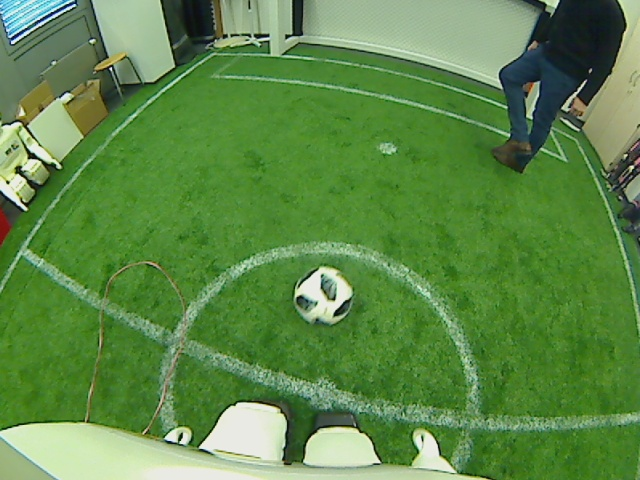ball: (292, 264, 355, 327)
